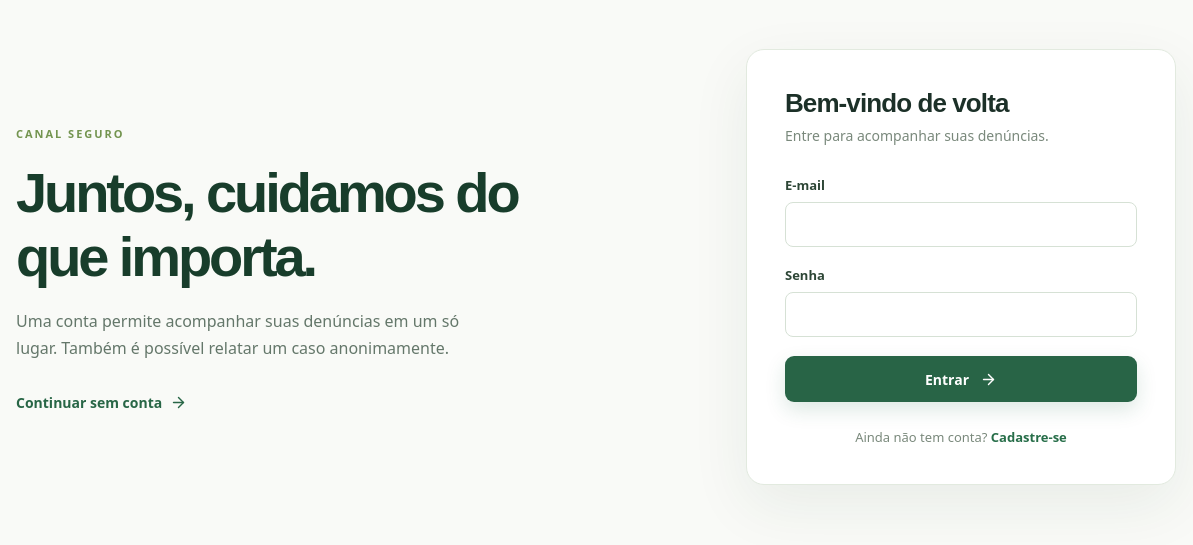
Test: shows an authentication error without navigating
Type "reader@example.test" into the field labelled "E-mail" at (961, 225), box [785,202,1137,247]
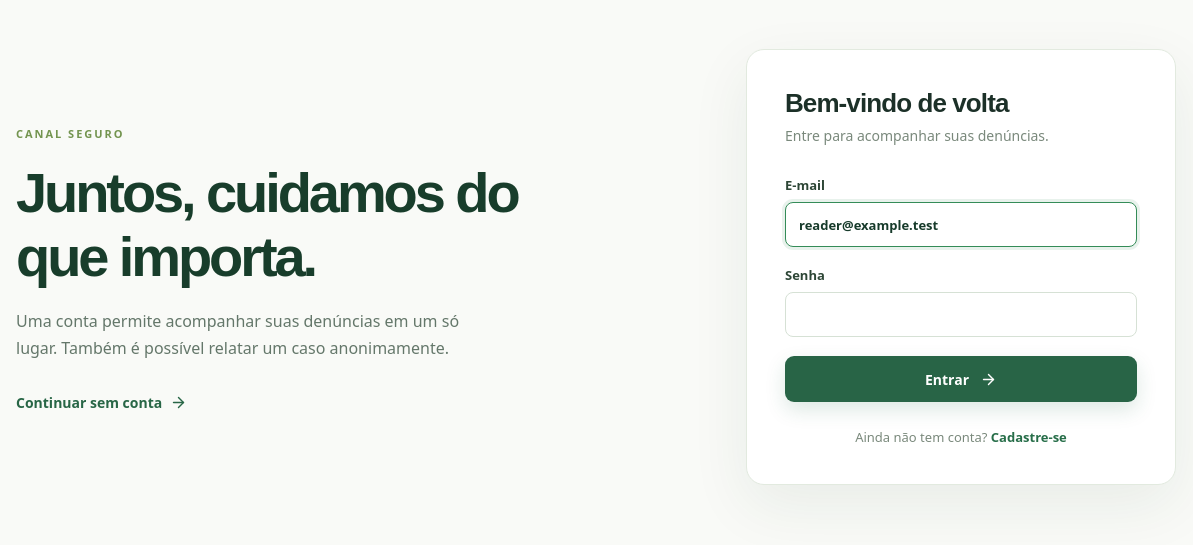
Type "incorrect-test-value" into the password field labelled "Senha" at (961, 315), box [785,292,1137,337]
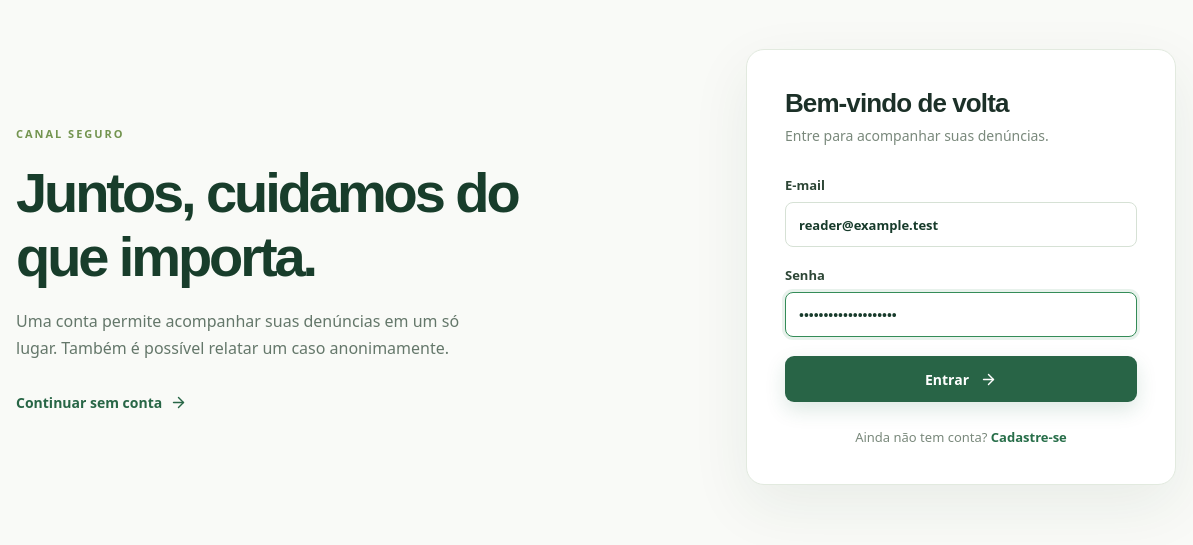
Click the button "Entrar" at (961, 379), box [785,356,1137,402]
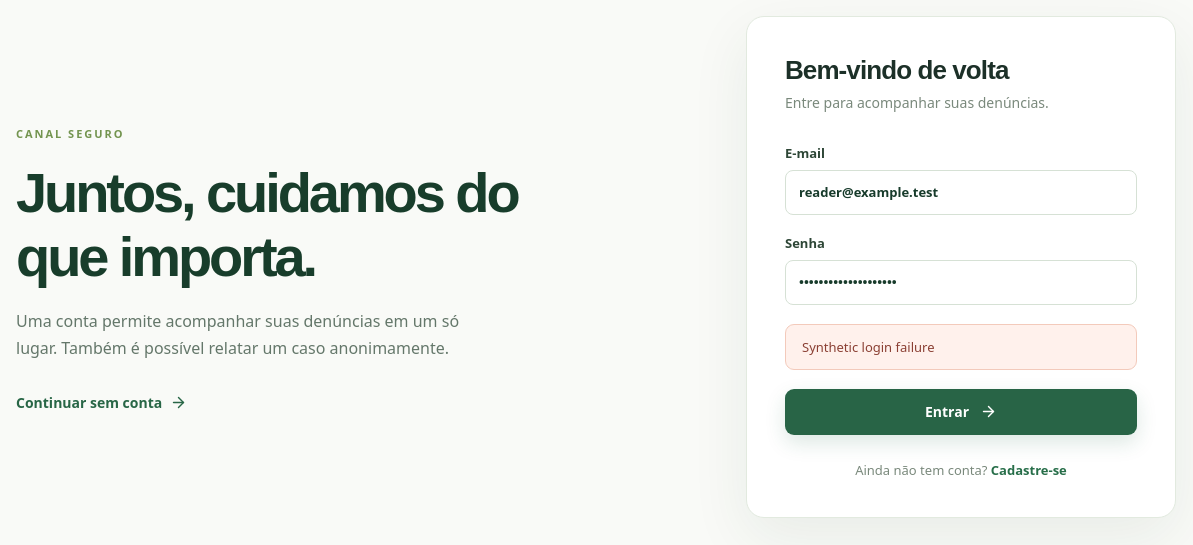
Check: the message reads "Synthetic login failure", box [802,338,934,356]
